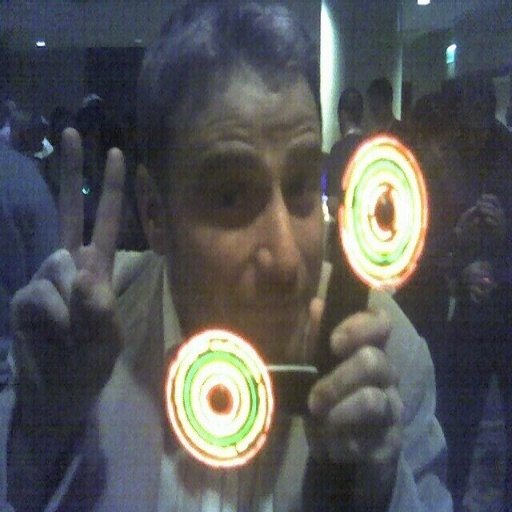hand: (8, 130, 128, 432), (294, 288, 446, 486), (459, 256, 496, 304), (476, 192, 505, 240), (457, 204, 483, 248)
